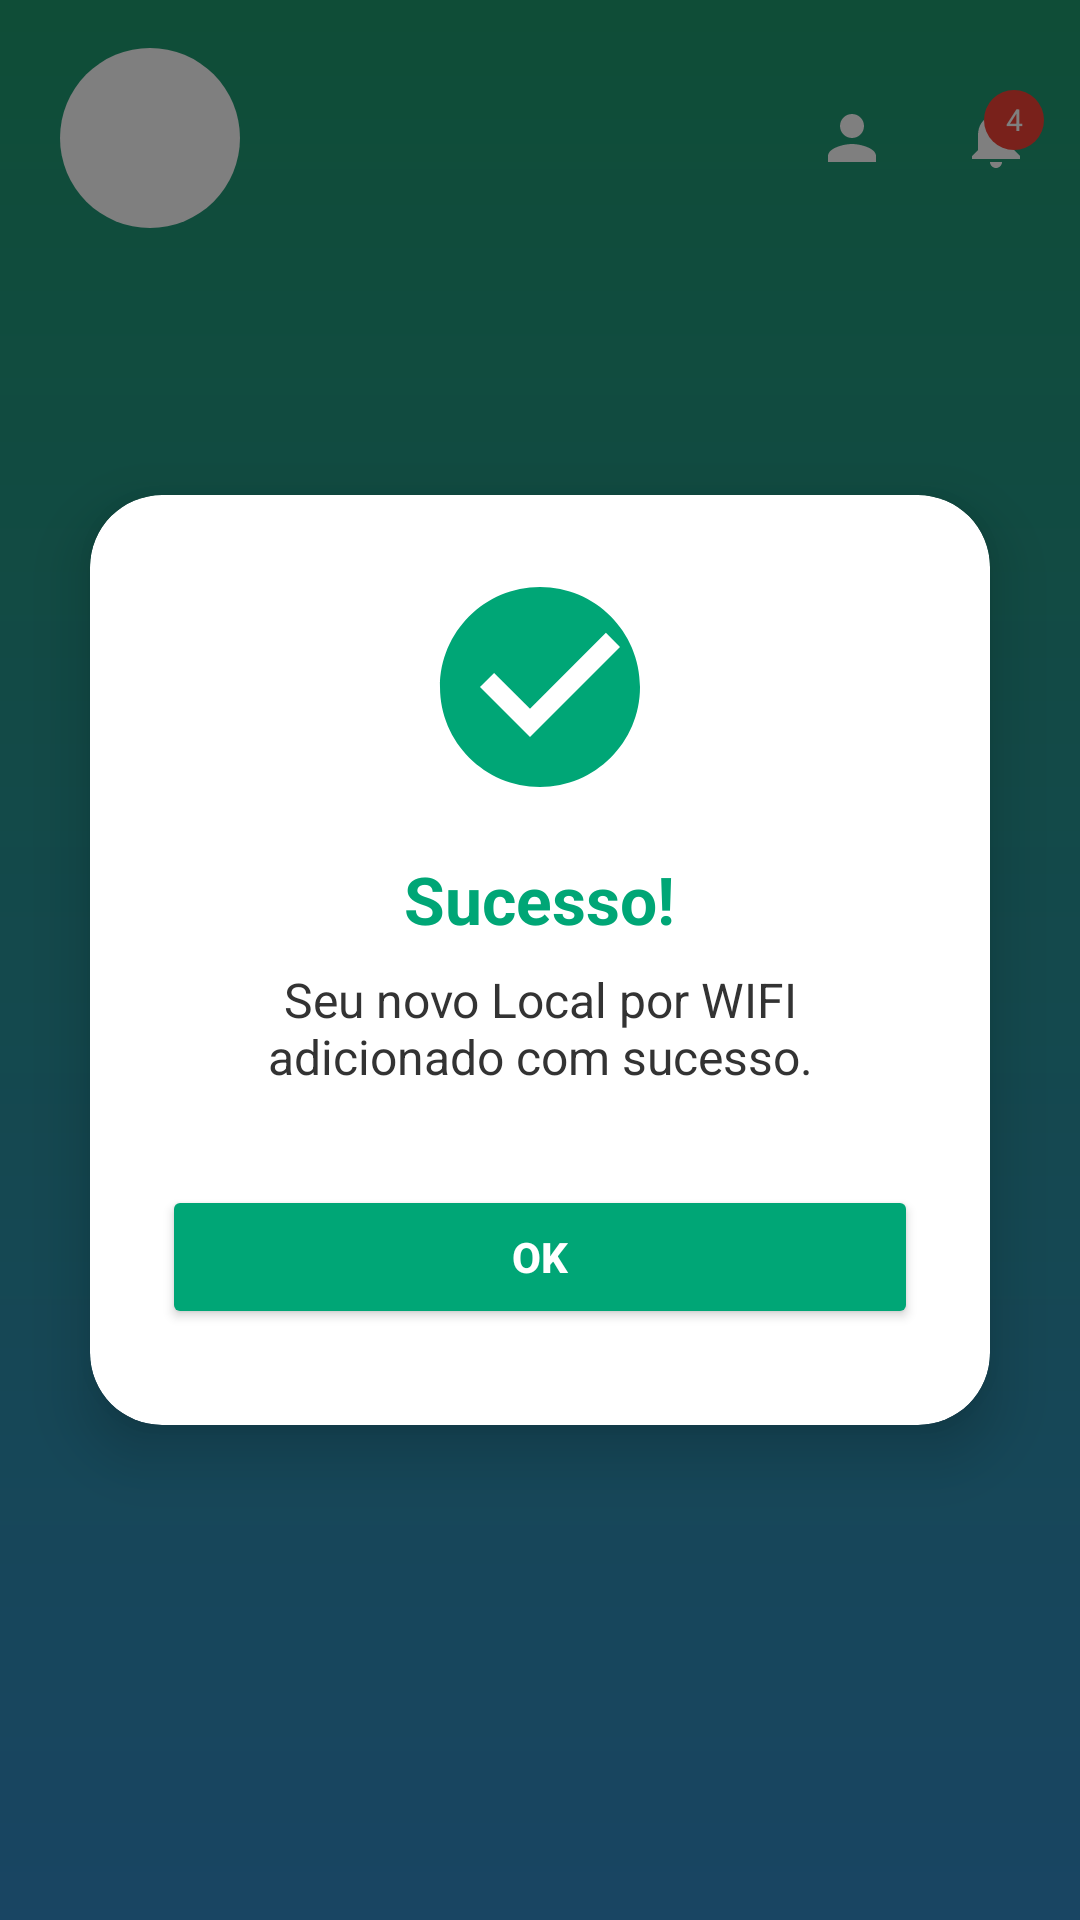

Screen size 1080x1920. Icon name, then its box in pixels as Rect(x1, y1, x2, y2):
notification: Rect(972, 90, 1044, 168)
person: Rect(828, 114, 876, 162)
